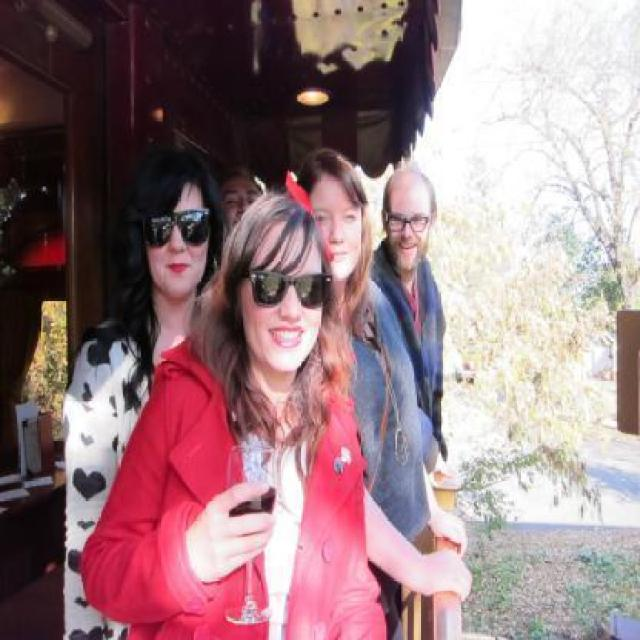face_nomask: (244, 270, 327, 356), (144, 213, 204, 273), (308, 208, 362, 267), (387, 208, 428, 258)
glasses: (247, 269, 328, 313), (139, 205, 212, 253), (382, 208, 430, 238)
hand_noglove: (184, 475, 278, 583), (421, 548, 476, 602), (427, 506, 471, 556)
head_nohelmet: (233, 188, 327, 261), (132, 155, 213, 199), (295, 152, 362, 188), (381, 166, 436, 197)
person: (81, 187, 398, 640)
